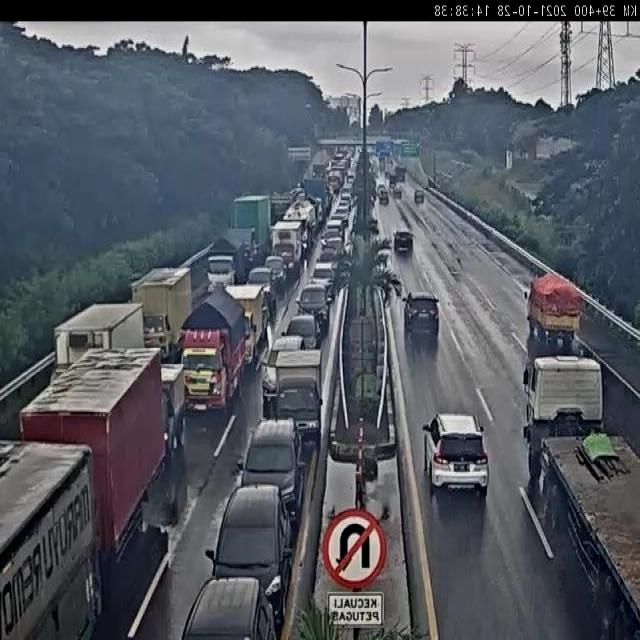Car: (203, 481, 293, 620), (237, 414, 302, 522), (178, 573, 280, 640), (424, 411, 490, 494), (261, 332, 305, 408), (295, 282, 333, 336), (400, 291, 442, 339), (282, 312, 320, 351), (247, 266, 276, 306), (311, 262, 337, 300), (265, 254, 286, 294), (321, 236, 344, 258), (394, 230, 414, 254), (318, 246, 337, 265), (378, 185, 389, 205), (392, 185, 402, 199), (415, 190, 424, 203)
Truck: (520, 353, 639, 640), (19, 348, 167, 555), (0, 438, 100, 638), (177, 284, 246, 418), (46, 299, 145, 386), (132, 269, 195, 360), (272, 348, 325, 449), (522, 272, 584, 351), (223, 281, 266, 370), (228, 189, 271, 265), (204, 230, 244, 298), (160, 360, 187, 451), (268, 218, 305, 282), (282, 198, 318, 250), (302, 177, 328, 222), (269, 189, 295, 226), (395, 166, 406, 183), (388, 169, 398, 186)
